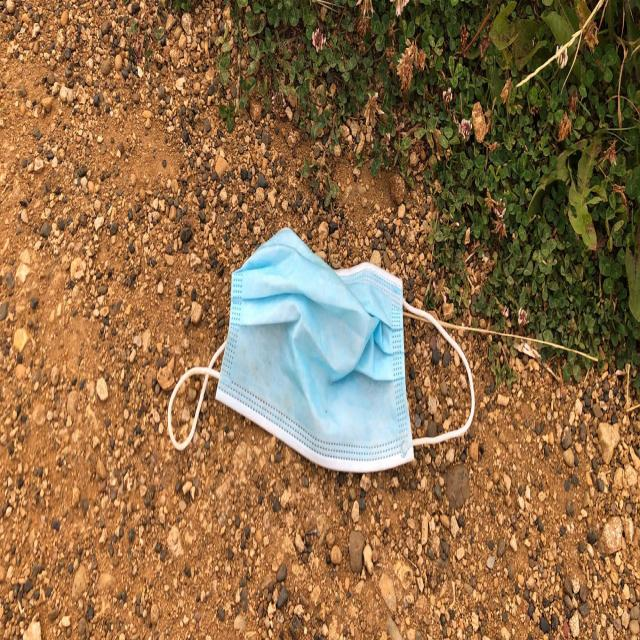non-organic waste: (164, 227, 476, 485)
